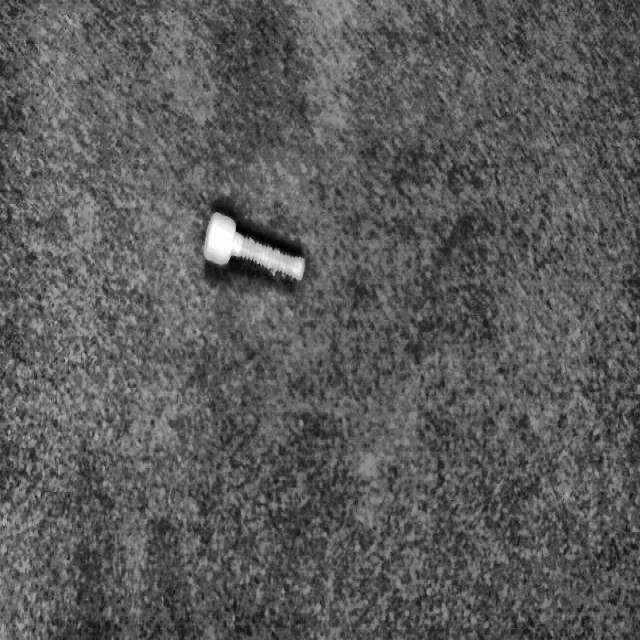Socket head cap screw: (202, 208, 306, 284)
